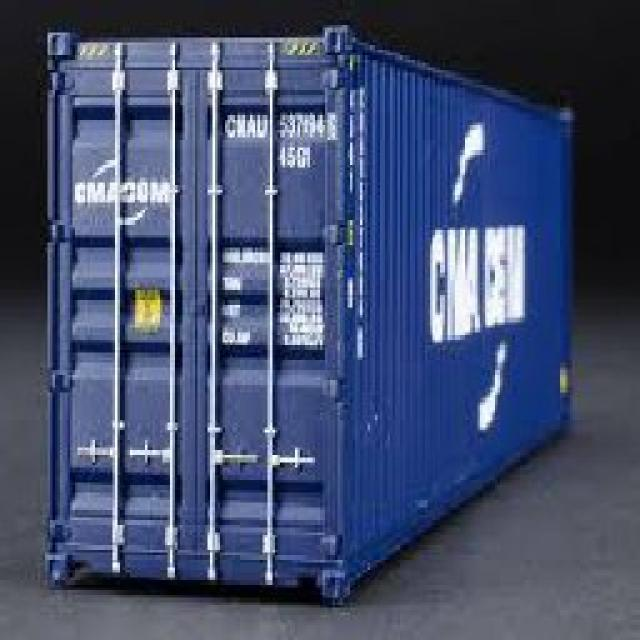ISO: (280, 142, 316, 171)
container_number: (220, 108, 340, 140)
